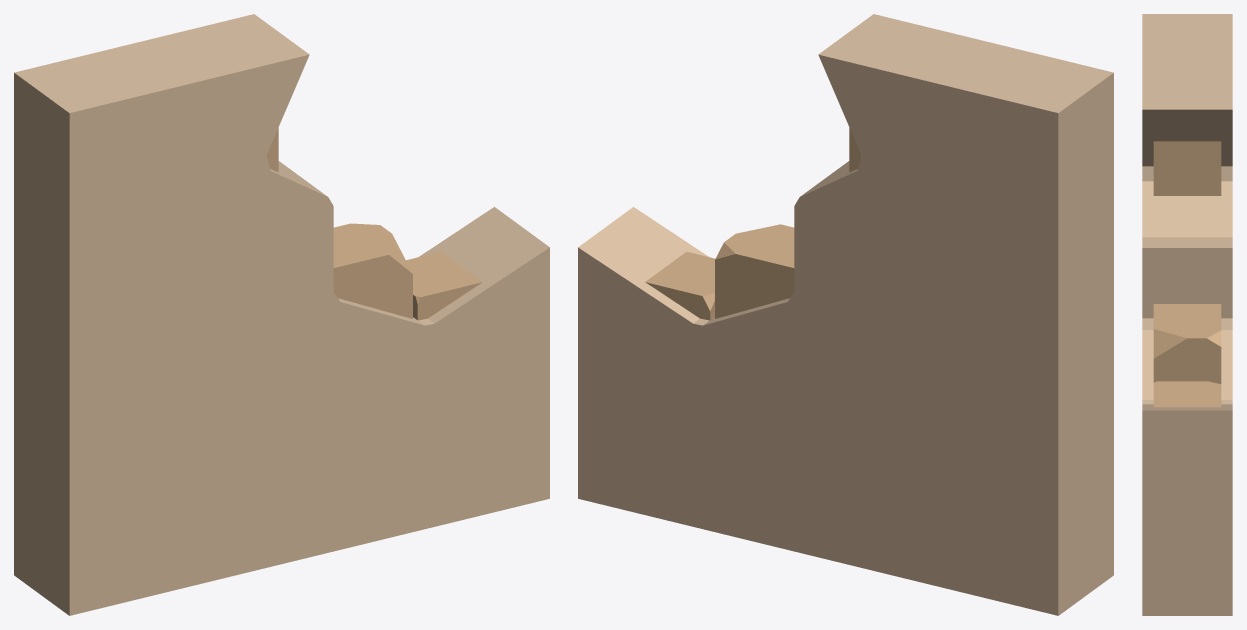
File: Wall_Ruined_Corner_Inner_2.fbx
3 renders of one model, left to right at view 1: azimuth 30°, elevation 25°; view 2: azimuth 150°, elevation 25°; view 3: azimuth 270°, elevation 25°, orthographic. The views are drawn at different scales.
Visible parts, largest first — view 1: object1, object4, object3; view 2: object1, object4, object3; view 3: object1, object4, object2, object3.
Part boxes in pixels (x1,y1,x2,y2): object1: (14,14,549,615); object4: (333,223,412,318); object3: (406,251,482,320); object1: (578,14,1113,615); object4: (715,224,794,318); object3: (645,251,714,320); object1: (1142,14,1232,615); object4: (1153,304,1221,384); object2: (1153,141,1221,195); object3: (1153,381,1221,407).
Size of the model in its own units: 1 by 1 by 0.2.
